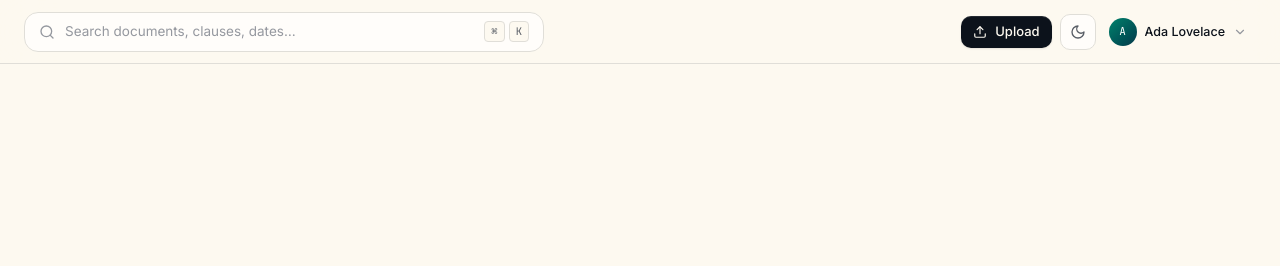
Topbar user identity › shows the display name in the topbar and the email only inside the dropdown
The width and height of the screenshot is (1280, 266).
Expected: the text "Ada Lovelace" is shown, [1145,24,1225,39]
Expected: the text "ada.lovelace@clausly.app" is not shown
Click the button "A Ada Lovelace": (1180, 32) [1104,12,1256,50]
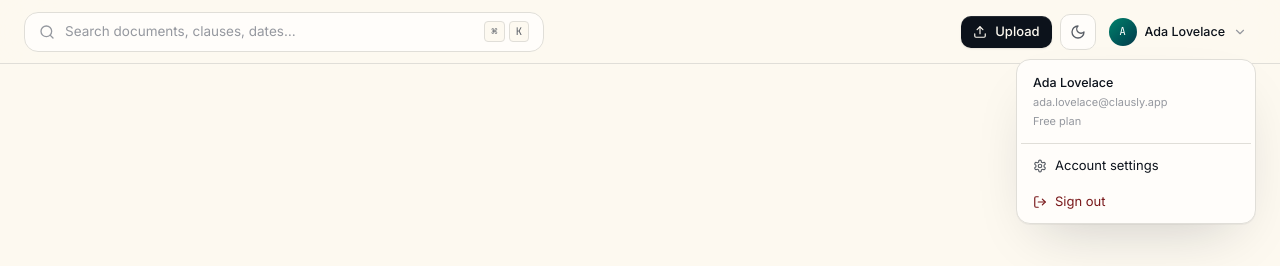
Now the text "ada.lovelace@clausly.app" is shown, box [1033,95,1168,109]
Now the text "Free plan" is shown, box [1033,114,1081,128]
